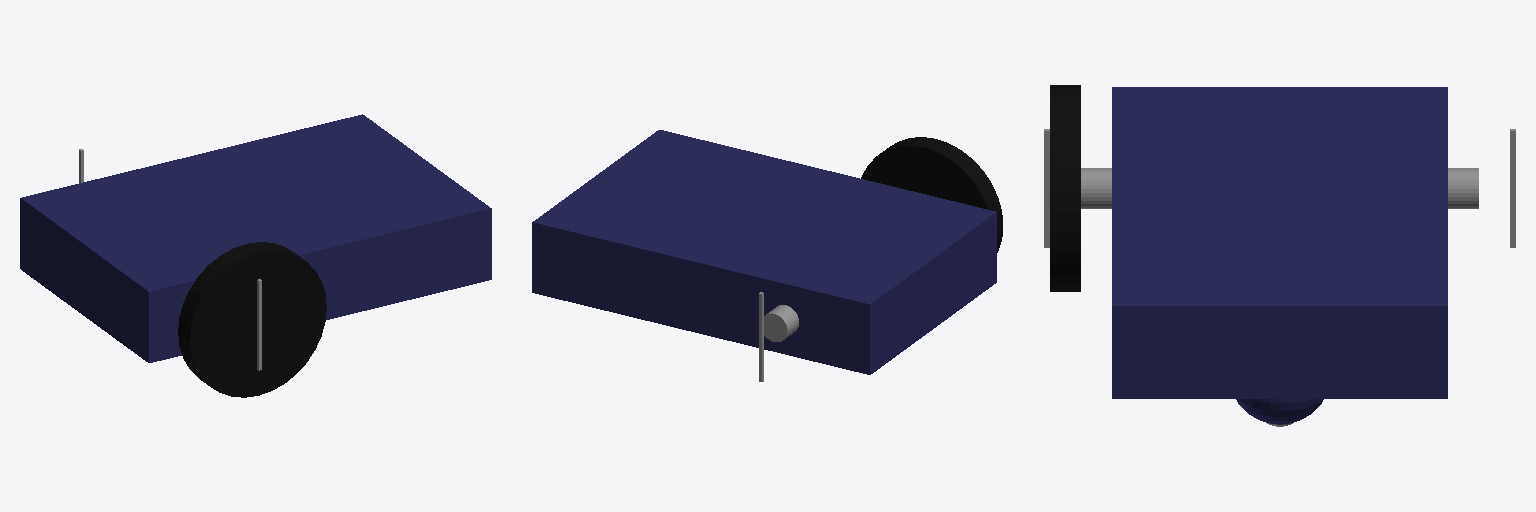
URDF robot description (robot):
<?xml version="1.0"?>

<robot name="robot">
    <!-- Link - chassis -->
    <link name="link_chassis">
        <inertial>
            <mass value="10" />
            <origin xyz="0 0 0.3" rpy="0 0 0" />
            <inertia ixx="1.5417" ixy="0" ixz="0" iyy="3.467" iyz="0" izz="4.742" />
        </inertial>

        <collision>
            <geometry>
                <mesh filename="package://robot_description/meshes/chassis.stl" />
            </geometry>
        </collision>

        <visual>
            <geometry>
                <box size="2 1.3 0.4" />
            </geometry>
            <material name="Dark Blue">
                <color rgba="0.2 0.2 0.4 1" />
            </material>
        </visual>
    </link>

    <!-- Joint - chassis / left wheel -->
    <joint name="joint_chassis_left_wheel" type="continuous">
        <origin rpy="0 0 0" xyz="-0.5 0.65 0" />
        <child link="link_left_wheel" />
        <parent link="link_chassis" />
        <axis rpy="0 0 0" xyz="0 1 0" />
        <limit effort="10000" velocity="1000" />
        <joint_properties damping="1.0" friction="1.0" />
    </joint>

    <!-- Link - left wheel -->
    <link name="link_left_wheel">
        <inertial>
            <mass value="1" />
            <origin xyz="0 0 0" rpy="0 0 0" />
            <inertia ixx="0.002526666666667" ixy="0" ixz="0" iyy="0.002526666666667" iyz="0" izz="0.005"/>
        </inertial>

        <collision>
            <origin rpy="1.5707 0 0" xyz="0 0.18 0" />
            <geometry>
                <cylinder length="0.12" radius="0.4"/>
            </geometry>
        </collision>
        <visual>
            <origin rpy="1.5707 0 0" xyz="0 0.18 0" />
            <geometry>
                <!--cylinder length="0.12" radius="0.4"-->
                <mesh filename="package://robot_description/meshes/wheel.stl" />
            </geometry>
            <material name="Black">
                <color rgba="0.1 0.1 0.1 1" />
            </material>
        </visual>

        <collision>
            <origin rpy="1.5707 0 0" xyz="0 0.06 0" />
            <geometry>
                <cylinder length="0.12" radius="0.08"/>
            </geometry>
        </collision>
        <visual>
            <origin rpy="1.5707 0 0" xyz="0 0.06 0" />
            <geometry>
                <cylinder length="0.12" radius="0.08"/>
            </geometry>
            <material name="Grey">
                <color rgba="0.6 0.6 0.6 1" />
            </material>
        </visual>

        <!-- Hubcap -->
        <visual>
            <origin rpy="1.5707 0 0" xyz="0 0.25 0" />
            <geometry>
                <box size="0.02 0.5 0.02" />
            </geometry>
            <material name="Grey">
                <color rgba="0.6 0.6 0.6 1" />
            </material>
        </visual>

    </link>

    <!-- Joint - chassis / right wheel -->
    <joint name="joint_chassis_right_wheel" type="continuous">
        <origin rpy="0 0 0" xyz="-0.5 -0.65 0" />
        <child link="link_right_wheel" />
        <parent link="link_chassis" />
        <axis rpy="0 0 0" xyz="0 1 0" />
        <limit effort="10000" velocity="1000" />
        <joint_properties damping="1.0" friction="1.0" />
    </joint>

    <!-- Link - Right wheel -->
    <link name="link_right_wheel">
        <inertial>
            <mass value="1" />
            <origin xyz="0 0 0" rpy="0 0 0" />
            <inertia ixx="0.002526666666667" ixy="0" ixz="0" iyy="0.002526666666667" iyz="0" izz="0.005"/>
        </inertial>

        <collision>
            <origin rpy="1.5707 0 0" xyz="0 -0.18 0" />
            <geometry>
                <cylinder length="0.12" radius="0.4"/>
            </geometry>
        </collision>
        <visual>
            <origin rpy="1.5707 0 0" xyz="0 -0.18 0" />
            <geometry>
                <cylinder length="0.12" radius="0.4"/>
            </geometry>
            <material name="Black">
                <color rgba="0.1 0.1 0.1 1" />
            </material>
        </visual>

        <collision>
            <origin rpy="1.5707 0 0" xyz="0 -0.06 0" />
            <geometry>
                <!--cylinder length="0.12" radius="0.08"/-->
                <mesh filename="package://robot_description/meshes/wheel.stl" />
            </geometry>
        </collision>
        <visual>
            <origin rpy="1.5707 0 0" xyz="0 -0.06 0" />
            <geometry>
                <cylinder length="0.12" radius="0.08"/>
            </geometry>
            <material name="Grey">
                <color rgba="0.6 0.6 0.6 1" />
            </material>
        </visual>

        <!-- Hubcap -->
        <visual>
            <origin rpy="1.5707 0 0" xyz="0 -0.25 0" />
            <geometry>
                <box size="0.02 0.5 0.02" />
            </geometry>
            <material name="Grey">
                <color rgba="0.6 0.6 0.6 1" />
            </material>
        </visual>
    </link>

    <!-- Joint - chassis / castor wheel -->
    <joint name="joint_chassis_castor_wheel" type="fixed">
        <origin rpy="0 0 0" xyz="0.8 0 -0.15" />
        <child link="link_castor_wheel" />
        <parent link="link_chassis" />
        <joint_properties damping="1.0" friction="1.0" />
    </joint>

    <!-- Link - Castor wheel -->
    <link name="link_castor_wheel">
        <inertial>
            <mass value="1" />
            <origin xyz="0 0 0" rpy="0 0 0" />
            <inertia ixx="0.002526666666667" ixy="0" ixz="0" iyy="0.002526666666667" iyz="0" izz="0.005"/>
        </inertial>

        <collision>
            <origin rpy="0 0 0" xyz="0 0 -0.03" />
            <geometry>
                <sphere radius="0.2" />
            </geometry>
        </collision>
        <visual>
            <origin rpy="0 0 0" xyz="0 0 -0.03" />
            <geometry>
                <sphere radius="0.2" />
            </geometry>
            <material name="DarkBlue">
                <color rgba="0.2 0.2 0.4 1" />
            </material>
        </visual>

        <!-- Caster wheel -->
        <collision>
            <origin rpy="0 0 0" xyz="0 0 -0.15" />
            <geometry>
                <sphere radius="0.10" />
            </geometry>
        </collision>
        <visual>
            <origin rpy="0 0 0" xyz="0 0 -0.15" />
            <geometry>
                <sphere radius="0.10" />
            </geometry>
            <material name="Grey">
                <color rgba="0.6 0.6 0.6 1" />
            </material>
        </visual>
    </link>

</robot>

--- Facts derived from the render (not from the file) ---
3 views of the same robot in one strip: view 1: azimuth 30°, elevation 25°; view 2: azimuth 150°, elevation 25°; view 3: azimuth 270°, elevation 25° (orthographic).
Model robot with 4 links and 3 joints (2 continuous, 1 fixed), rooted at link_chassis, posed every joint at zero.
Visible links, largest first — view 1: link_chassis, link_right_wheel; view 2: link_chassis, link_right_wheel, link_left_wheel; view 3: link_chassis, link_right_wheel, link_left_wheel, link_castor_wheel.
Link boxes in pixels (box(x1,y1,x2,y2)): link_chassis: box(20, 114, 491, 362); link_right_wheel: box(178, 242, 326, 397); link_chassis: box(532, 130, 996, 374); link_right_wheel: box(861, 137, 1002, 252); link_left_wheel: box(759, 292, 798, 381); link_chassis: box(1112, 87, 1447, 398); link_right_wheel: box(1044, 85, 1111, 291); link_left_wheel: box(1448, 129, 1515, 247); link_castor_wheel: box(1236, 399, 1323, 426).
Bounding box of the posed robot: 2 × 1.82 × 0.8 m (x, y, z).
0 mesh visuals loaded from 1 distinct referenced files (none loaded); not drawn: 1 (file found but could not be loaded).